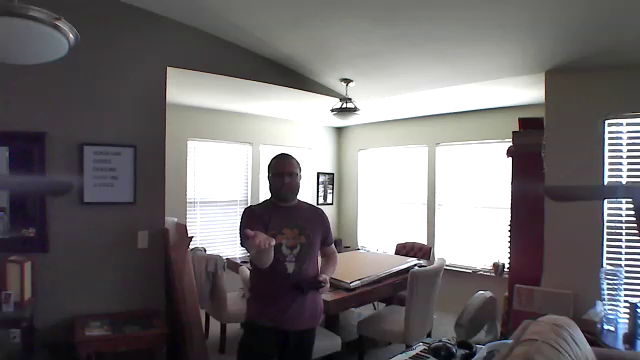land: (240, 228, 279, 255)
